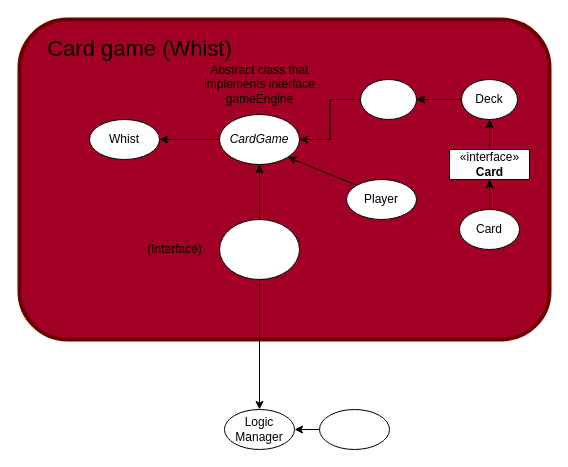
Some shapes in this 568 by 467 pixel diagram are drawn without their labels. The centre of each missing label's shape, as x and y in pixels:
Dealer: pixel 388 99
gameEngine: pixel 259 249
WS: pixel 354 429
